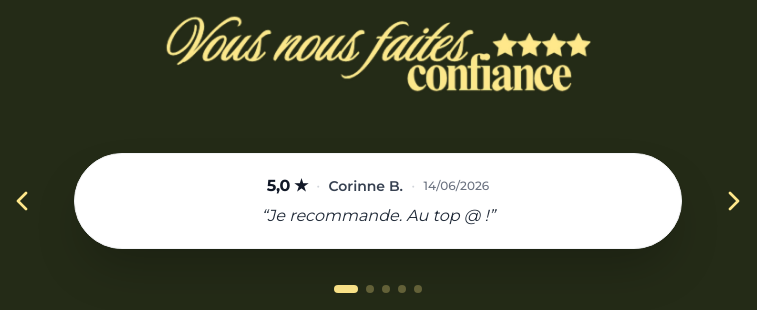
ReviewsSection Component › allows navigation via pagination dots
The image size is (757, 310).
Click the tab named "Aller à l'avis 3". click: click(386, 289)
box: top-left (382, 285), bottom-right (390, 293)
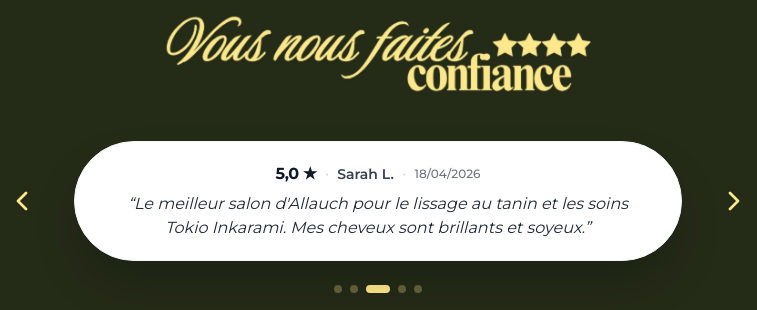
Expected: the text "Le meilleur salon d'Allauch pour le lissage au tanin et les soins Tokio Inkarami. Mes cheveux sont brillants et soyeux." is shown, top-left (134, 194), bottom-right (628, 237)
